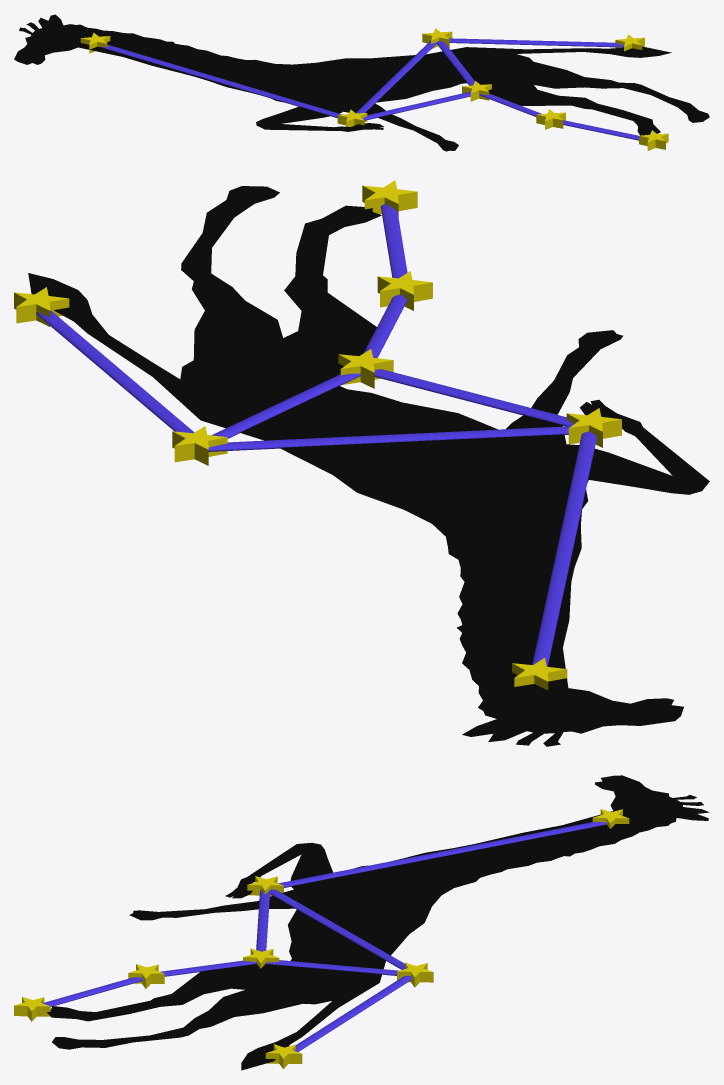
Rendered from Kirin-za.glb.
3 renders of one model, top to bottom at view 1: azimuth 30°, elevation 25°; view 2: azimuth 150°, elevation 25°; view 3: azimuth 270°, elevation 25°, orthographic. The views are drawn at different scales.
Parts seen in each view (by area): view 1: 円, 円柱.003, 円柱.005, 円柱.001, 円柱.004, 円.006, 円.005, 円柱.007, 円柱.002, 円.004, 円.001, 円.002 (+3 smaller); view 2: 円, 円柱.003, 円柱.001, 円柱.005, 円柱.004, 円柱.002, 円.002, 円.005, 円.003, 円.001, 円.006, 円.004 (+3 smaller); view 3: 円, 円柱.003, 円柱.001, 円柱.005, 円柱.002, 円柱.007, 円柱.004, 円.006, 円.003, 円.002, 円.005, 円柱.006 (+1 smaller).
Boxes of the visible parts, <box> form: 円: <box>14,14,709,151</box>; 円柱.003: <box>100,45,341,118</box>; 円柱.005: <box>448,38,623,47</box>; 円柱.001: <box>356,40,436,113</box>; 円柱.004: <box>362,91,470,120</box>; 円.006: <box>639,130,668,150</box>; 円.005: <box>536,109,565,129</box>; 円柱.007: <box>563,120,638,140</box>; 円柱.002: <box>436,40,474,85</box>; 円.004: <box>462,81,491,101</box>; 円.001: <box>337,109,367,126</box>; 円.002: <box>422,28,452,48</box>; 円: <box>28,186,709,746</box>; 円柱.003: <box>532,431,596,666</box>; 円柱.001: <box>208,426,570,451</box>; 円柱.005: <box>36,310,194,433</box>; 円柱.004: <box>374,369,573,426</box>; 円柱.002: <box>212,373,360,438</box>; 円.002: <box>172,426,227,465</box>; 円.005: <box>377,271,432,310</box>; 円.003: <box>14,287,69,326</box>; 円.001: <box>566,408,621,447</box>; 円.006: <box>362,180,417,216</box>; 円.004: <box>338,349,393,388</box>; 円: <box>47,775,709,1070</box>; 円柱.003: <box>278,822,606,887</box>; 円柱.001: <box>269,889,405,969</box>; 円柱.005: <box>294,975,411,1051</box>; 円柱.002: <box>265,960,398,975</box>; 円柱.007: <box>43,977,142,1006</box>; 円柱.004: <box>255,890,269,963</box>; 円.006: <box>14,997,50,1021</box>; 円.003: <box>265,1044,302,1068</box>; 円.002: <box>397,962,433,987</box>; 円.005: <box>128,964,164,988</box>; 円柱.006: <box>160,960,255,976</box>.
Bounding box in the file's own units: 54.5 × 0.8959 × 54.32.
